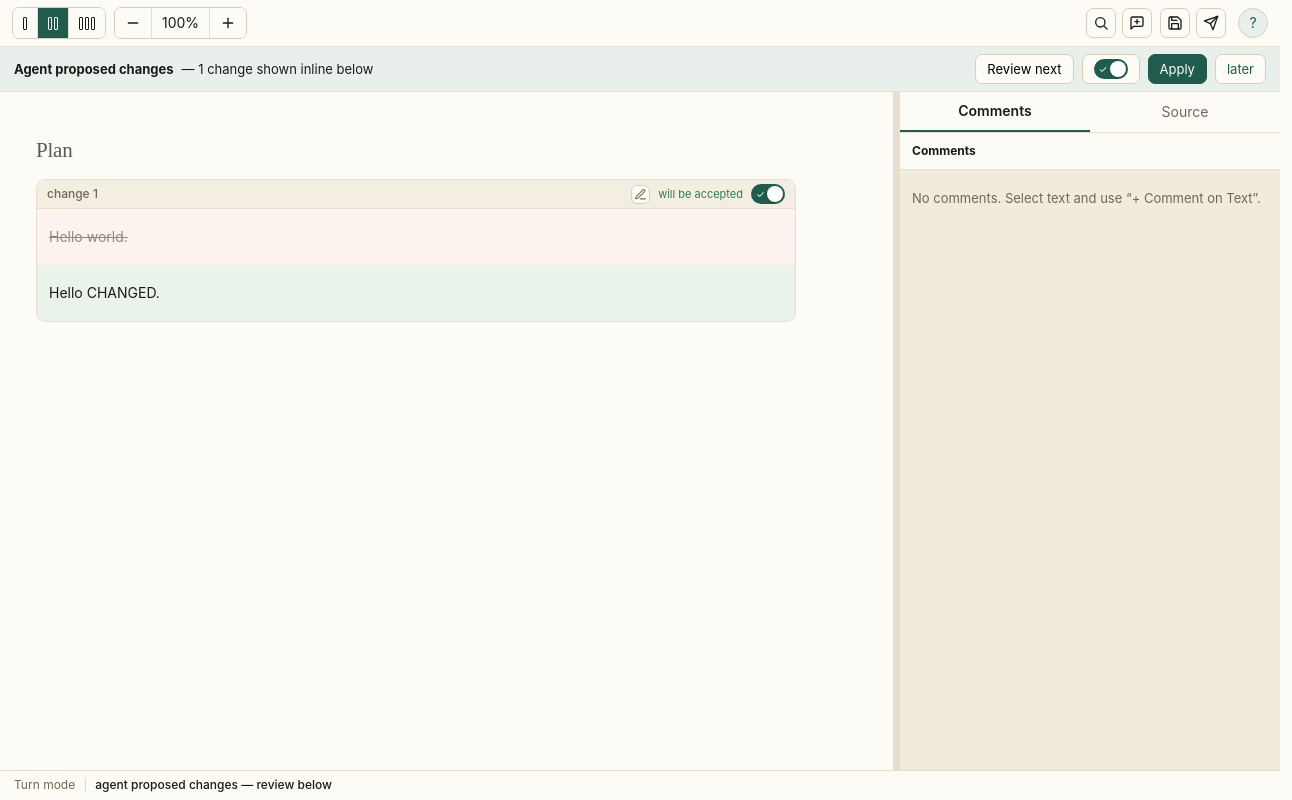
App review flow (memory-backed) › surfaces an agent Review proposal and clears it on Apply
Expected: the checkbox with class "ap-tri--accept" is shown, x1=1082 y1=54 x2=1140 y2=84
Click the button "Apply": (1177, 69) x1=1148 y1=54 x2=1207 y2=84
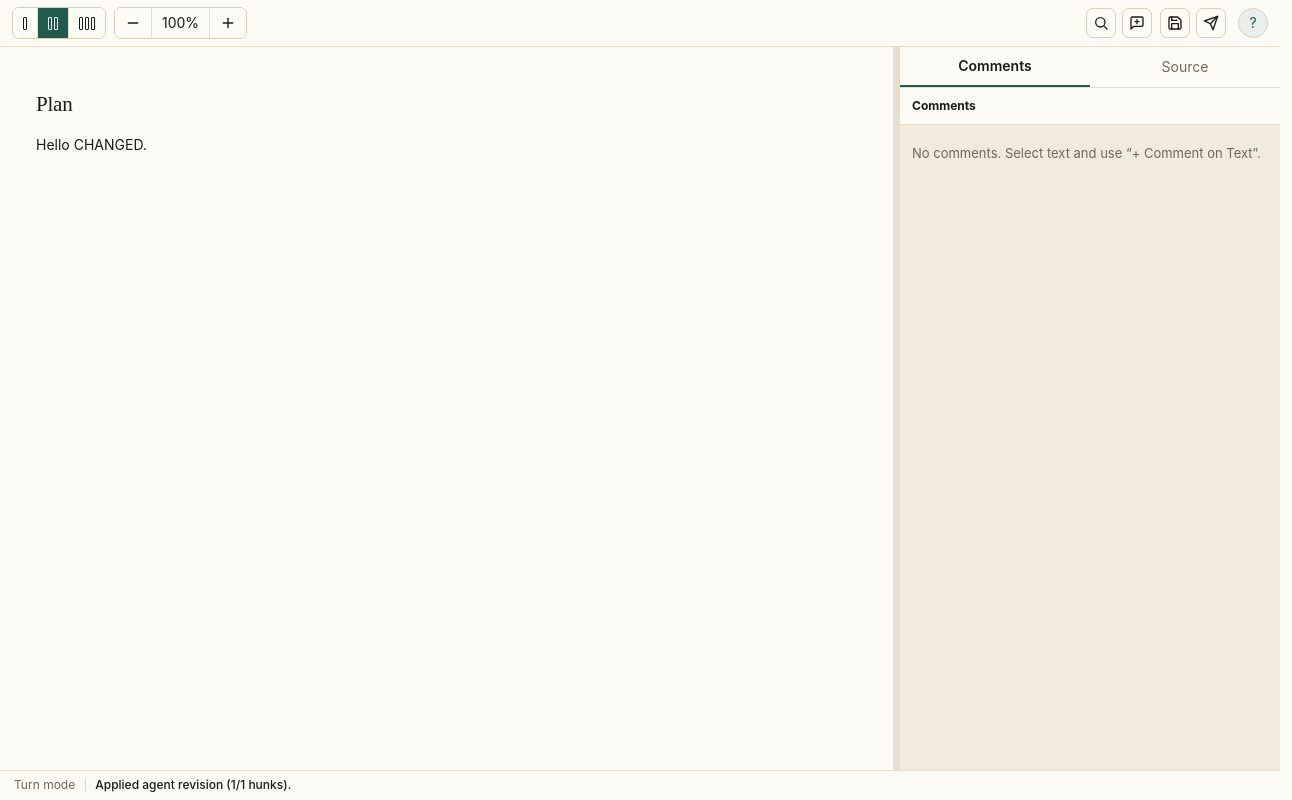
Expected: the text "Agent proposed changes" is gone
